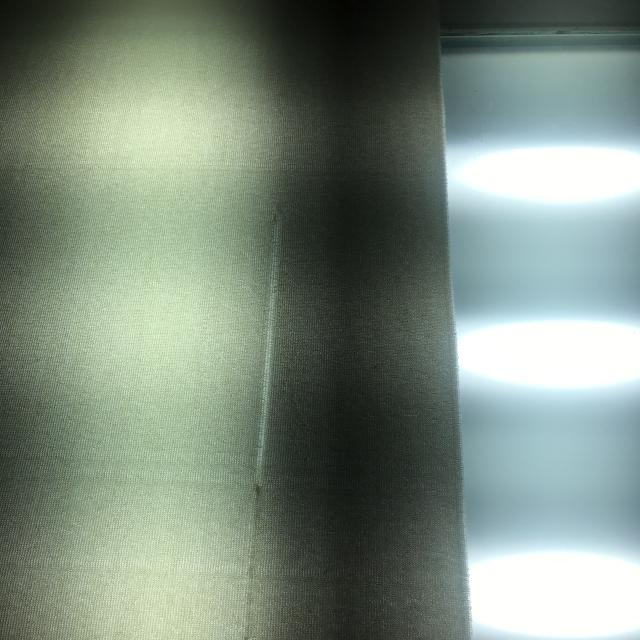Warp_Weft: (243, 215, 285, 522)
